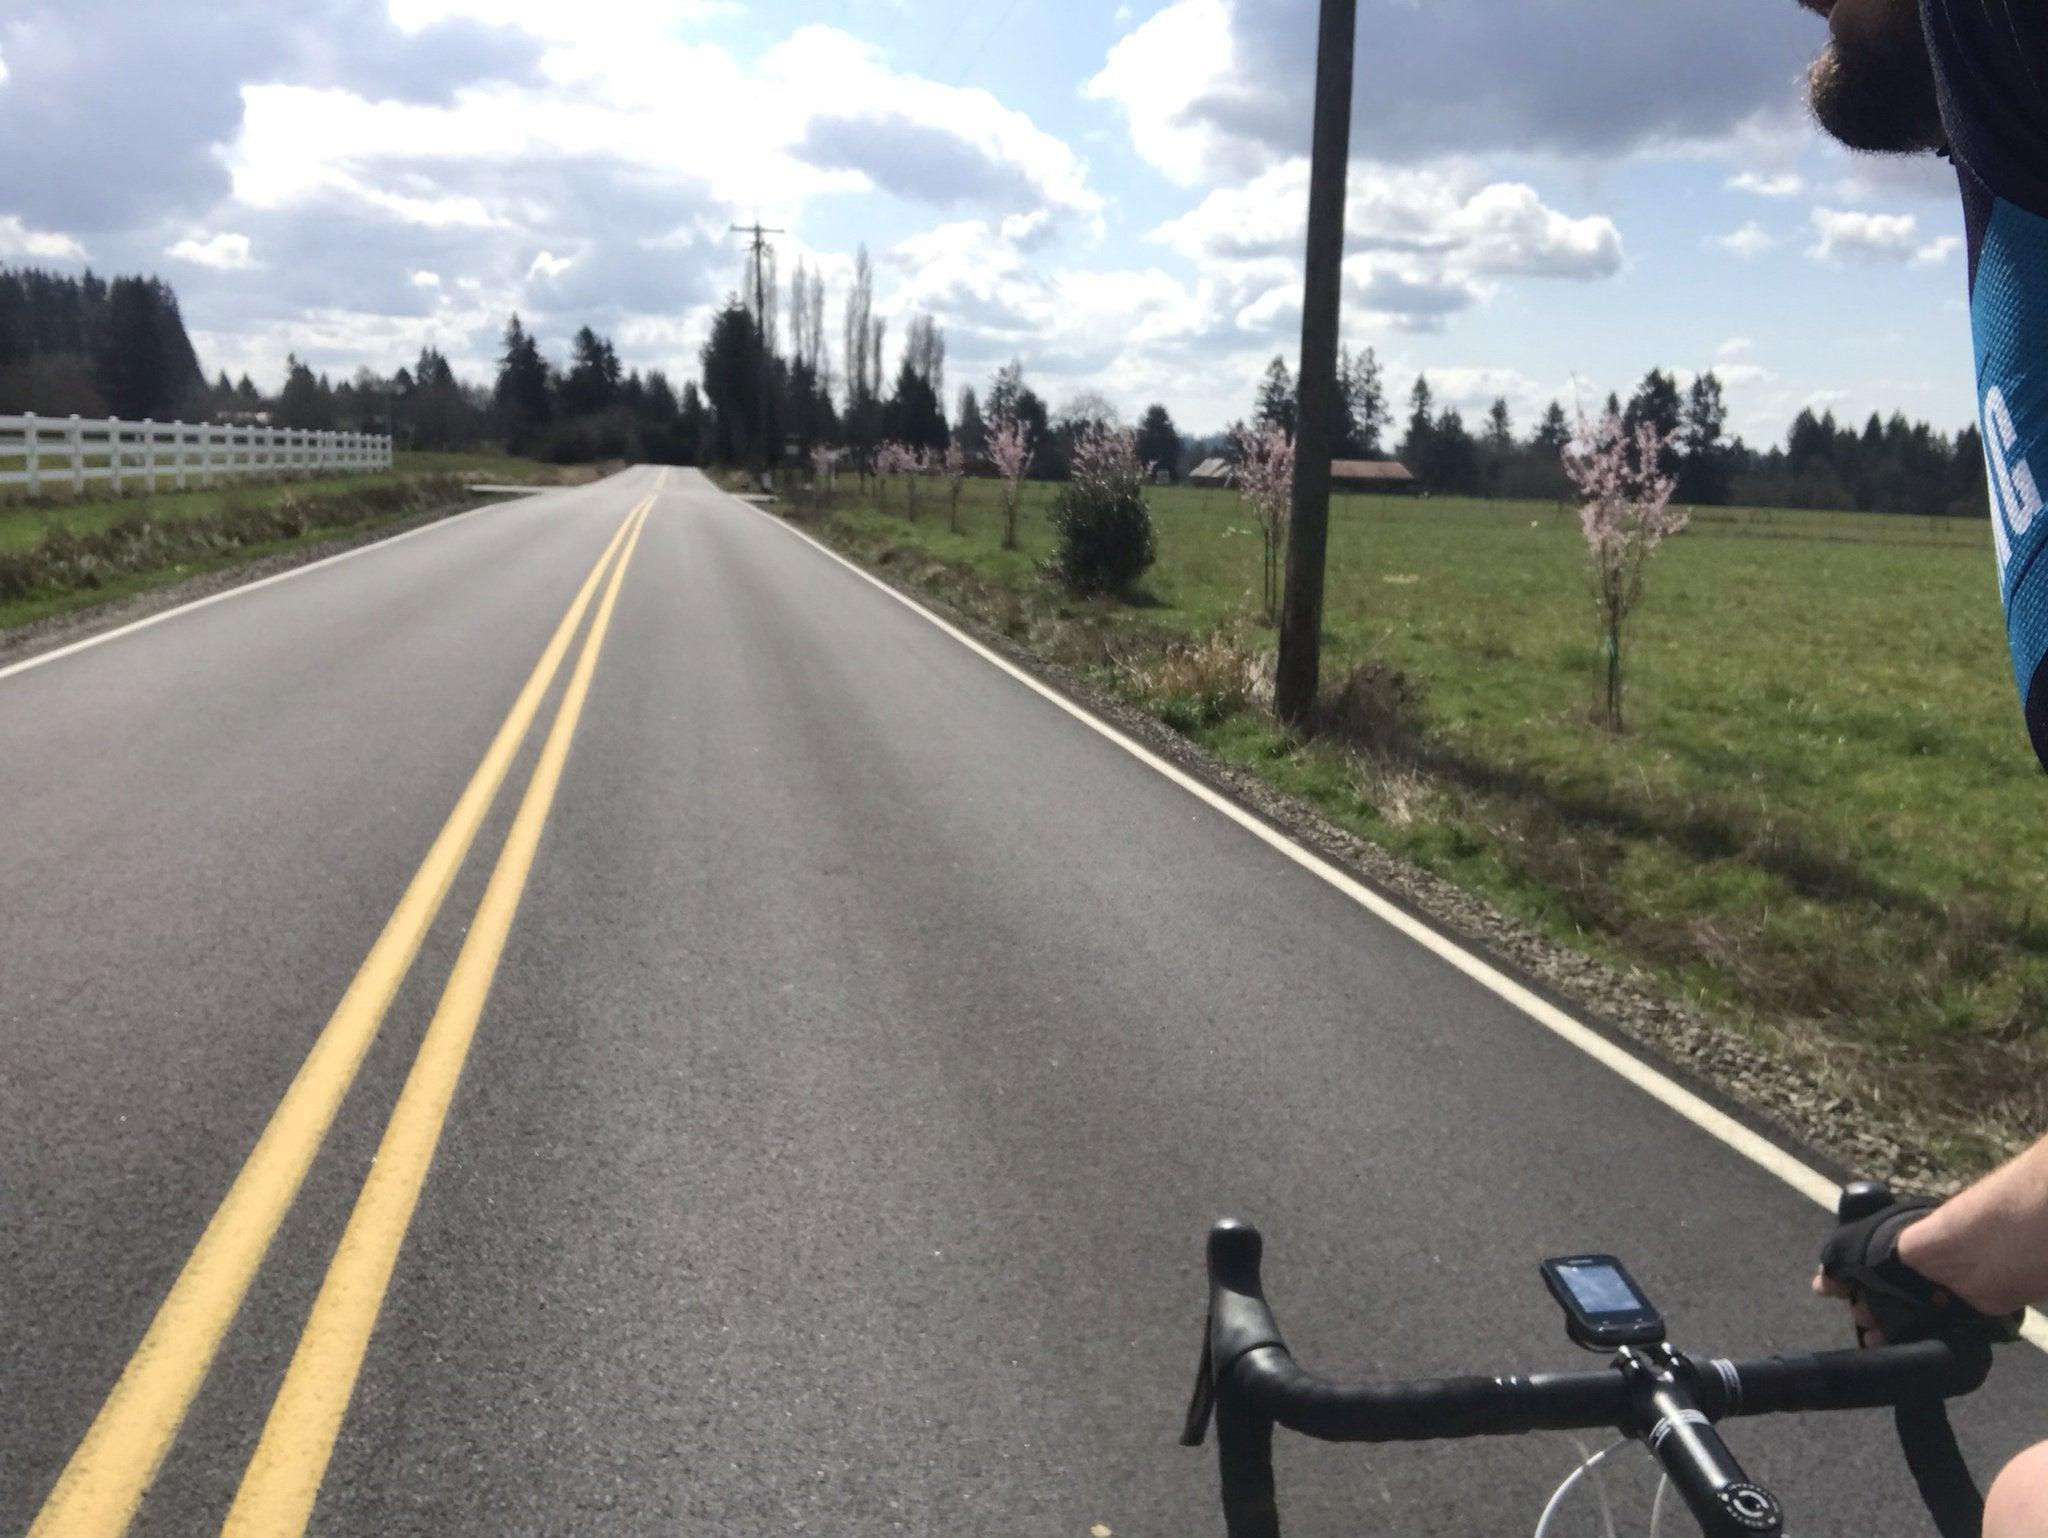cloud: (3, 0, 619, 267)
